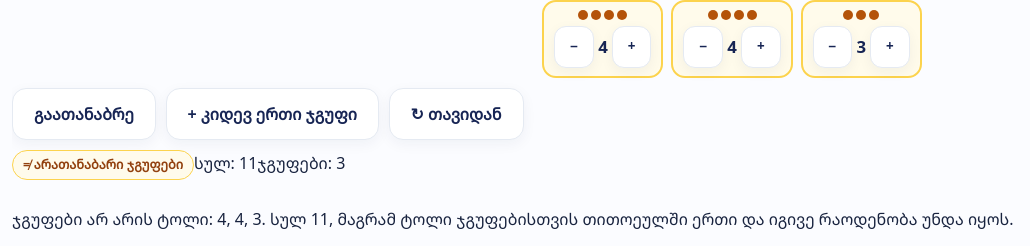
Scenario: tools: the equal-groups lab › adding one to a group can settle it, and a new group joins the count
Click the button named "3-ე ჯგუფს დაამატე ერთი".
click(890, 47)  # box [870,26,910,68]
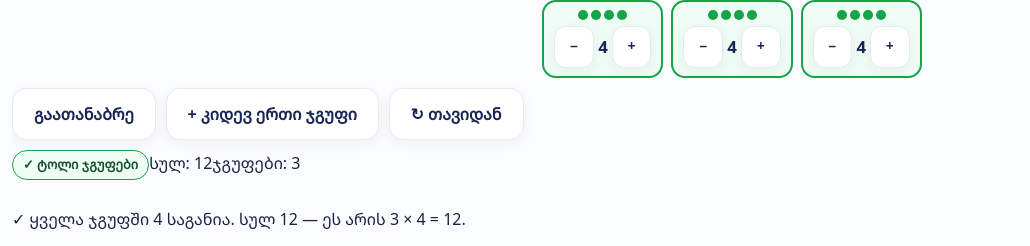
Expected: the message with class "eq-badge" shows "ტოლი", [23,155,138,173]
Click the button "+ კიდევ ერთი ჯგუფი".
click(272, 114)  # box [166,88,379,140]
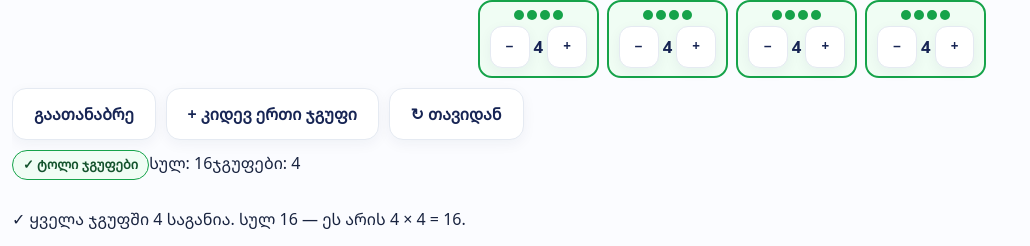
Expected: the number of elements with class "gbox" is 4, [478,0,599,78]; [607,0,728,78]; [736,0,857,78]; [865,0,986,78]
Expected: the element with class "lab-facts" shows "ჯგუფები: 4", [12,150,300,180]
